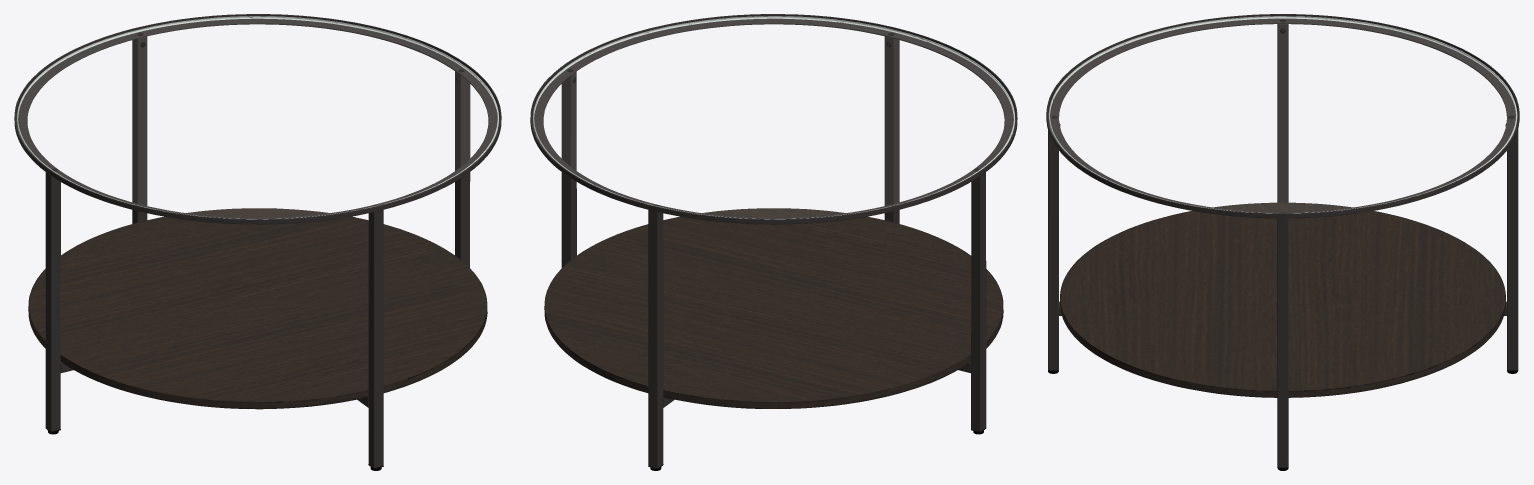
File: LB-LR-COFFEE-01.glb
3 renders of one model, left to right at view 1: azimuth 30°, elevation 25°; view 2: azimuth 150°, elevation 25°; view 3: azimuth 270°, elevation 25°, orthographic. The views are drawn at different scales.
Visible parts, largest first — view 1: Mesh_0; view 2: Mesh_0; view 3: Mesh_0.
Boxes of the visible parts, left/top/right/bottom form: Mesh_0: left=14, top=14, right=501, bottom=470; Mesh_0: left=530, top=14, right=1017, bottom=470; Mesh_0: left=1046, top=14, right=1519, bottom=470.
Size of the model in its own units: 0.75 by 0.451 by 0.75.
Materials: 2 (1 with a texture image).
